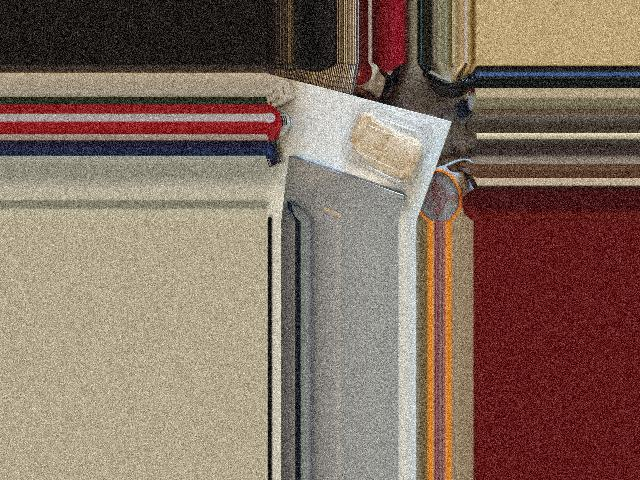cheese: (338, 103, 439, 187)
